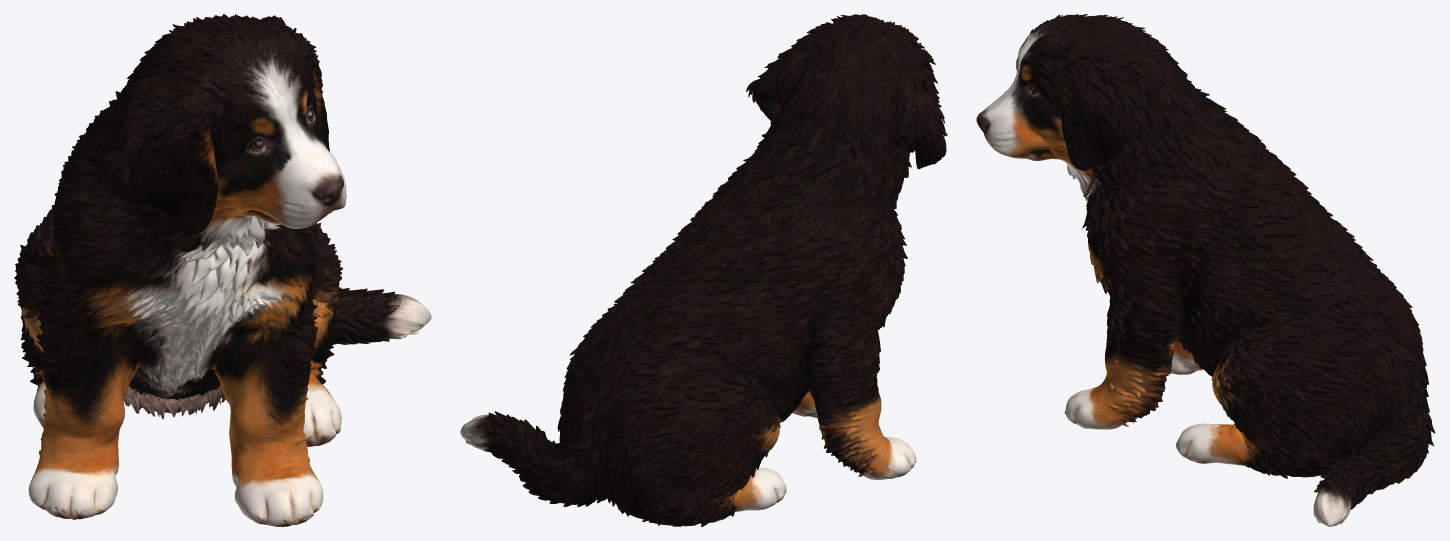
Rendered from Puppy.glb.
3 renders of one model, left to right at view 1: azimuth 30°, elevation 25°; view 2: azimuth 150°, elevation 25°; view 3: azimuth 270°, elevation 25°, orthographic. The views are drawn at different scales.
Parts seen in each view (by area): view 1: puppy; view 2: puppy; view 3: puppy.
Boxes of the visible parts, bbox=[...] form: puppy: bbox=[14, 14, 431, 526]; puppy: bbox=[460, 14, 947, 526]; puppy: bbox=[976, 14, 1435, 526].
Size of the model in its own units: 0.4055 by 0.3971 by 0.4369.
Materials: 1 (1 with a texture image).
